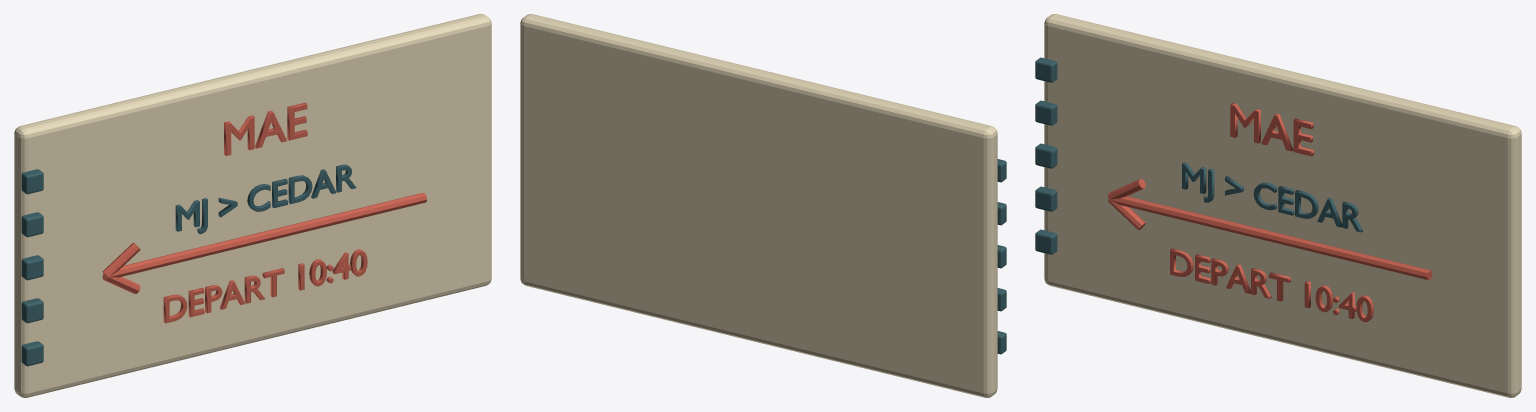
Rendered from ticket-mae-departure-v1-CMas_uUq.glb.
3 renders of one model, left to right at view 1: azimuth 30°, elevation 25°; view 2: azimuth 150°, elevation 25°; view 3: azimuth 330°, elevation 25°, orthographic.
Parts seen in each view (by area): view 1: Ticket stock, Journey line, Time, Route, Owner, Perforation 1, Perforation 2, Perforation 3, Perforation 4, Perforation 5, Arrow upper; view 2: Ticket stock; view 3: Ticket stock, Journey line, Time, Route, Owner, Perforation 1, Perforation 2, Perforation 3, Perforation 4, Perforation 5.
Part boxes in pixels (x1,y1,x2,y2): Ticket stock: (14, 14, 491, 397); Journey line: (109, 192, 426, 277); Time: (163, 249, 367, 323); Route: (175, 164, 356, 234); Owner: (224, 102, 307, 155); Perforation 1: (21, 341, 43, 366); Perforation 2: (21, 298, 43, 323); Perforation 3: (21, 255, 43, 280); Perforation 4: (21, 212, 43, 237); Perforation 5: (21, 169, 43, 194); Arrow upper: (102, 242, 140, 276); Ticket stock: (520, 14, 997, 397); Ticket stock: (1044, 14, 1521, 397); Journey line: (1109, 196, 1432, 280); Time: (1170, 248, 1373, 322); Route: (1182, 162, 1362, 232); Owner: (1230, 103, 1313, 156); Perforation 1: (1035, 229, 1057, 254); Perforation 2: (1035, 186, 1057, 211); Perforation 3: (1035, 143, 1057, 168); Perforation 4: (1035, 100, 1057, 125); Perforation 5: (1035, 57, 1057, 82).
Bounding box in the file's own units: 1.85 × 1 × 0.136.
